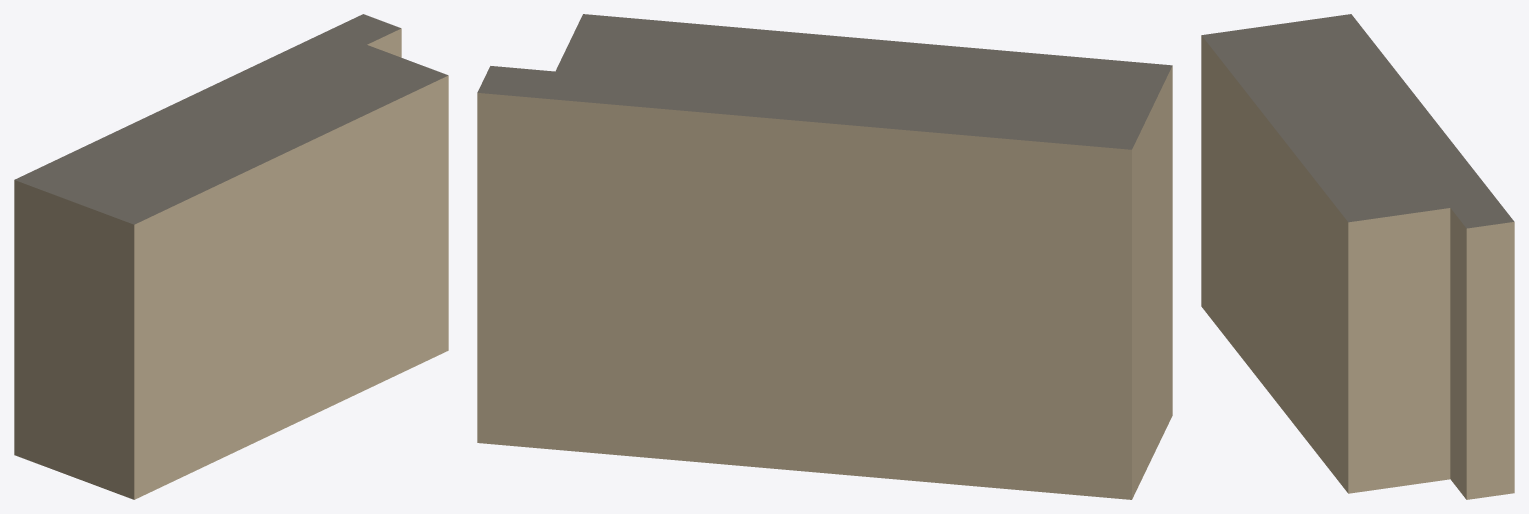
3 renders of one model, left to right at view 1: azimuth 30°, elevation 25°; view 2: azimuth 150°, elevation 25°; view 3: azimuth 270°, elevation 25°, orthographic. The views are drawn at different scales.
Parts seen in each view (by area): view 1: HP-w1385510829; view 2: HP-w1385510829; view 3: HP-w1385510829.
Part boxes in pixels (left/top/right/bottom): HP-w1385510829: left=14, top=14, right=448, bottom=499; HP-w1385510829: left=477, top=14, right=1172, bottom=499; HP-w1385510829: left=1201, top=14, right=1514, bottom=499.
Bounding box in the file's own units: 33.57 × 19.8 × 20.7.
